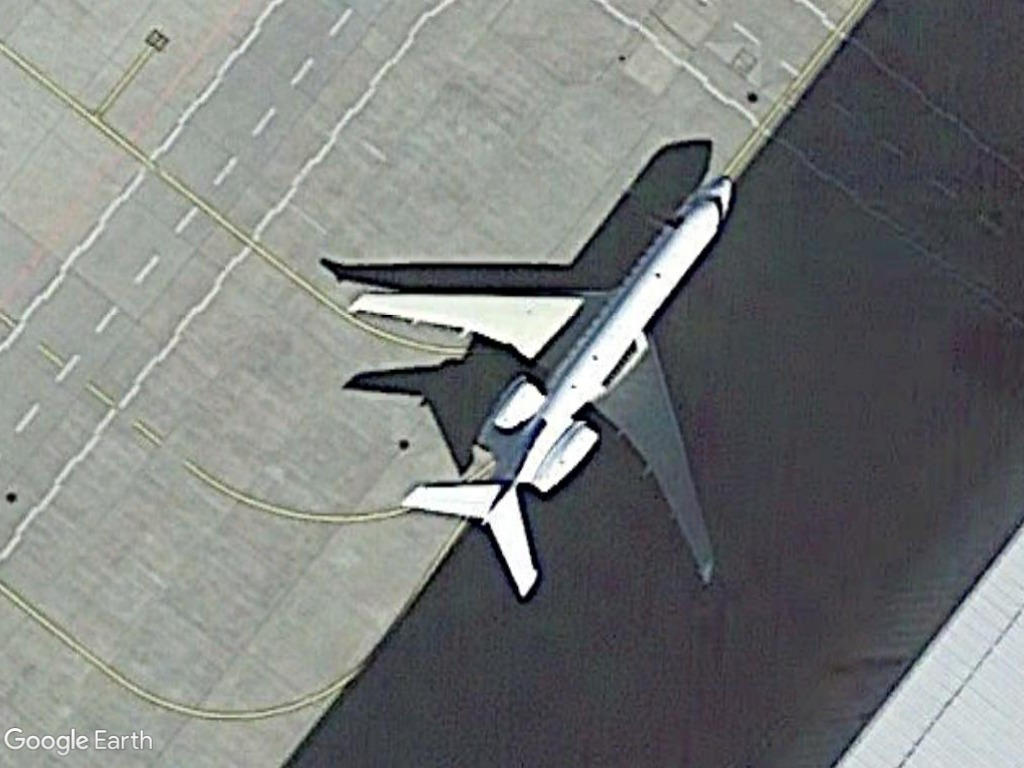chartered: (335, 168, 738, 606)
